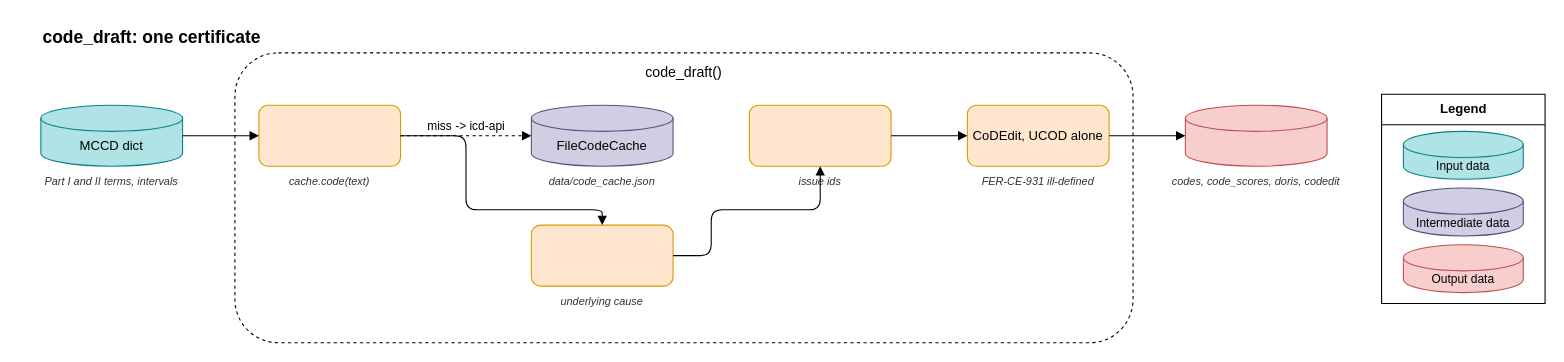
This 1564x362 diagram has some shape labels left out. The shapes that lost their labels are listed below. From the top down, each one's centre as x and y in pixels, then its label:
At point 329,135: "autocode per term".
At point 819,135: "CoDEdit, whole certificate".
At point 1255,135: "CodedDraft".
At point 601,255: "DORIS".
